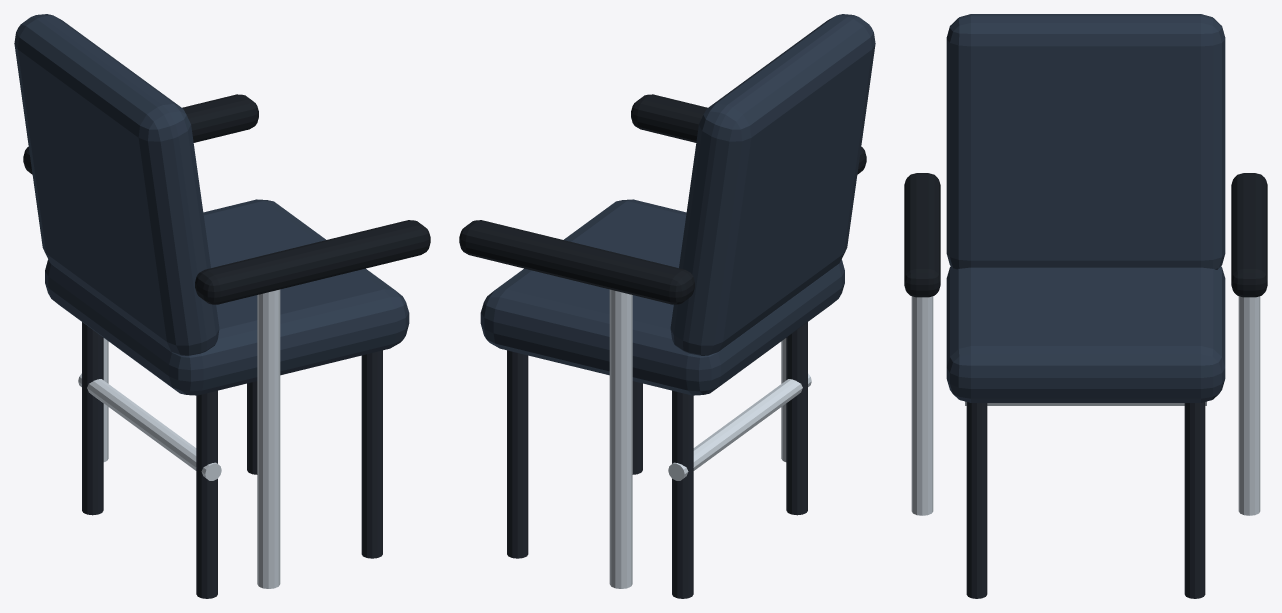
File: SM_StudioChair.fbx
The picture shows the model from 3 angles, left to right: view 1: azimuth 30°, elevation 25°; view 2: azimuth 150°, elevation 25°; view 3: azimuth 270°, elevation 25°; orthographic projection. The views are drawn at different scales.
Visible parts, largest first — view 1: SM_StudioChair; view 2: SM_StudioChair; view 3: SM_StudioChair.
Part boxes in pixels (left/top/right/bottom): SM_StudioChair: left=14, top=14, right=430, bottom=598; SM_StudioChair: left=459, top=14, right=875, bottom=598; SM_StudioChair: left=904, top=14, right=1267, bottom=598.
Size of the model in its own units: 48.53 by 60 by 87.35.
